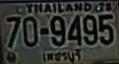0: (22, 16, 37, 46)
4: (67, 14, 81, 45)
5: (98, 14, 112, 44)
7: (6, 16, 20, 46)
9: (82, 14, 97, 44), (50, 15, 64, 45)
PBI: (41, 48, 84, 64)
